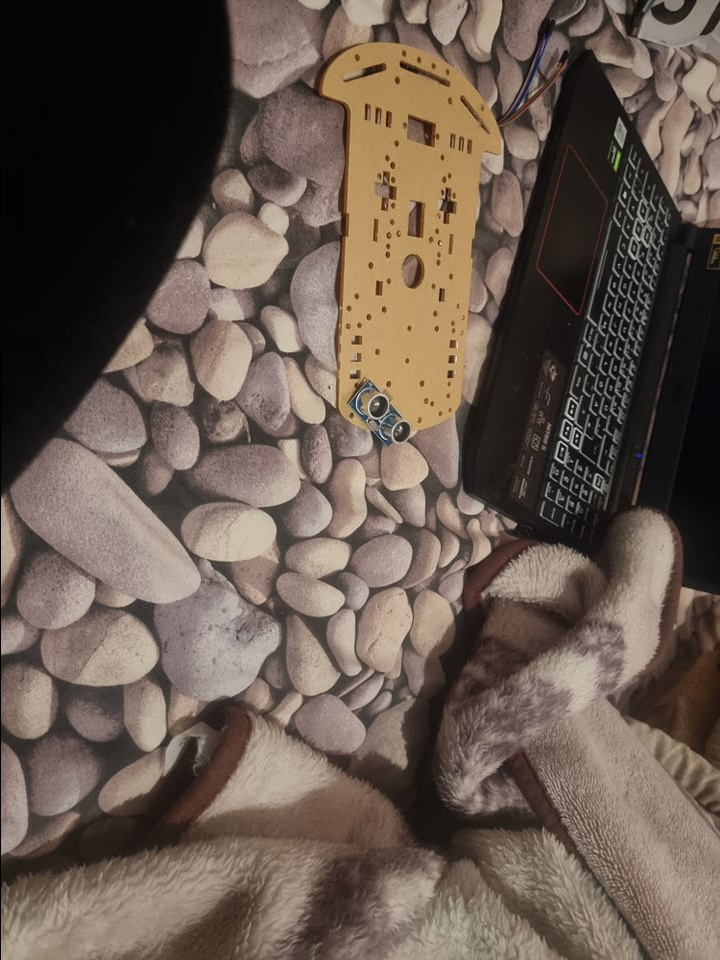SENSOR: (350, 381, 412, 445)
